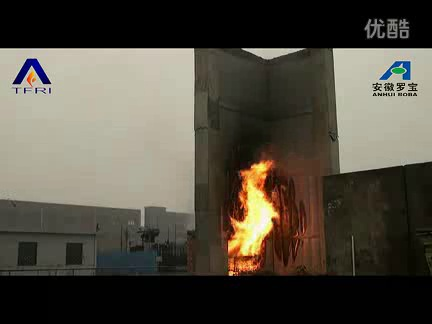fire: (221, 158, 280, 275)
